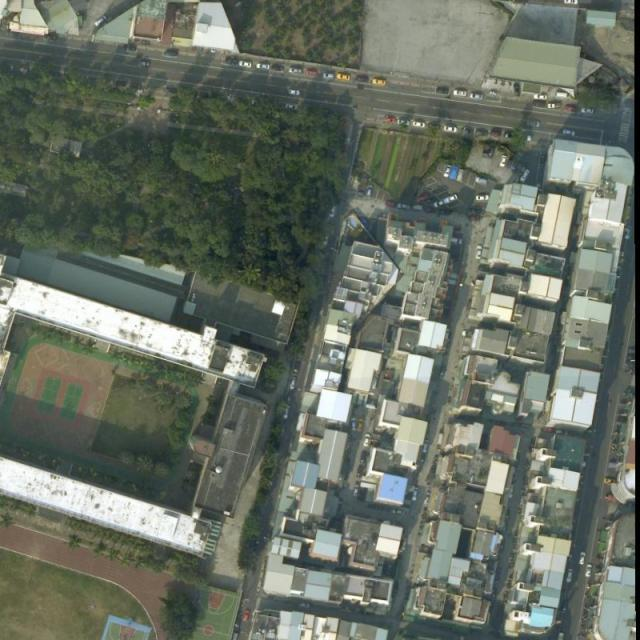vehicle: (518, 168, 533, 184), (431, 198, 448, 209), (475, 175, 490, 187), (94, 14, 107, 27), (383, 199, 398, 210), (410, 486, 420, 502), (238, 60, 254, 70), (561, 128, 578, 137), (422, 440, 432, 455), (372, 78, 387, 88), (578, 551, 587, 567), (450, 166, 459, 182), (469, 92, 485, 101), (296, 346, 306, 360), (445, 194, 459, 204), (525, 120, 542, 128), (356, 418, 365, 433), (362, 434, 371, 449), (423, 206, 438, 215), (532, 93, 547, 102), (498, 154, 507, 169), (435, 86, 450, 95), (164, 49, 179, 58), (256, 62, 271, 71), (289, 66, 302, 76), (295, 600, 311, 608), (437, 208, 453, 216), (359, 450, 368, 464), (438, 365, 447, 379), (443, 165, 452, 179), (454, 90, 468, 99), (304, 70, 318, 79), (566, 569, 574, 584), (547, 102, 562, 110), (462, 127, 474, 137), (123, 45, 138, 53), (443, 126, 458, 134), (624, 225, 631, 242), (351, 485, 360, 498), (355, 465, 364, 478), (437, 433, 446, 446), (585, 565, 594, 578), (416, 193, 429, 202), (137, 60, 150, 69), (428, 122, 441, 131), (449, 236, 462, 245), (390, 507, 404, 515), (290, 377, 298, 391), (338, 74, 352, 82), (396, 119, 410, 127), (412, 120, 426, 128), (474, 194, 489, 201), (476, 245, 483, 260), (355, 76, 370, 83), (286, 90, 301, 97), (242, 610, 250, 623), (293, 360, 301, 373), (490, 131, 503, 139), (385, 117, 398, 125), (468, 214, 482, 221), (401, 538, 408, 552), (514, 84, 521, 98), (283, 405, 290, 419), (604, 477, 616, 485), (366, 184, 374, 196), (398, 202, 410, 210), (565, 106, 578, 113), (469, 207, 484, 213), (323, 72, 334, 80), (581, 108, 595, 114), (412, 203, 424, 210), (44, 35, 58, 41), (285, 105, 298, 111), (556, 92, 569, 98), (351, 417, 356, 432), (232, 631, 240, 640), (477, 130, 488, 136), (564, 1, 578, 5)
